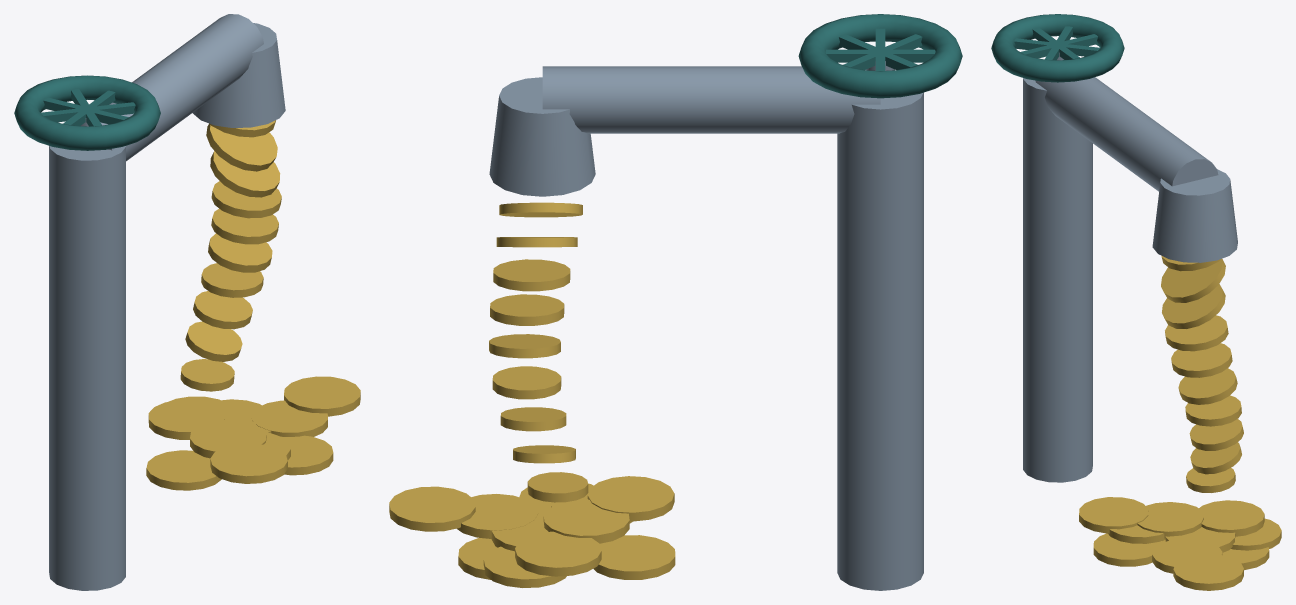
The model's file is money_faucet.glb.
3 renders of one model, left to right at view 1: azimuth 30°, elevation 25°; view 2: azimuth 150°, elevation 25°; view 3: azimuth 270°, elevation 25°, orthographic. The views are drawn at different scales.
Bounding box in the file's own units: 1.11 × 1.21 × 0.7403.
